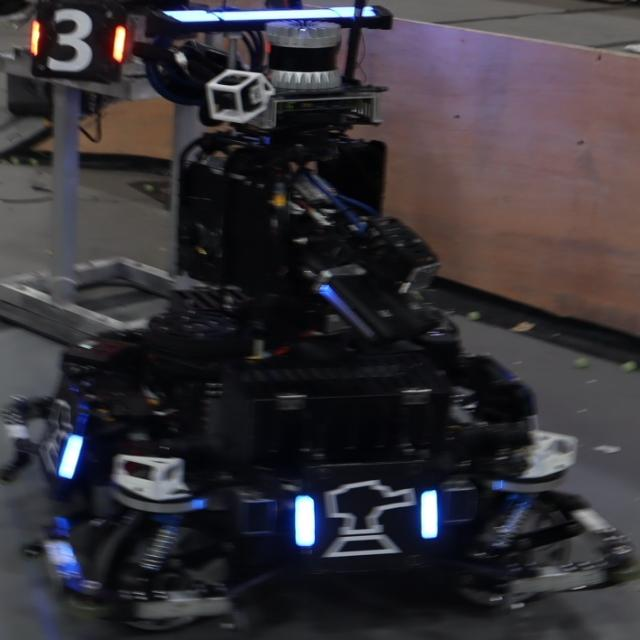Bs: (295, 477, 443, 563), (36, 387, 91, 484)
R3: (27, 6, 123, 69)
